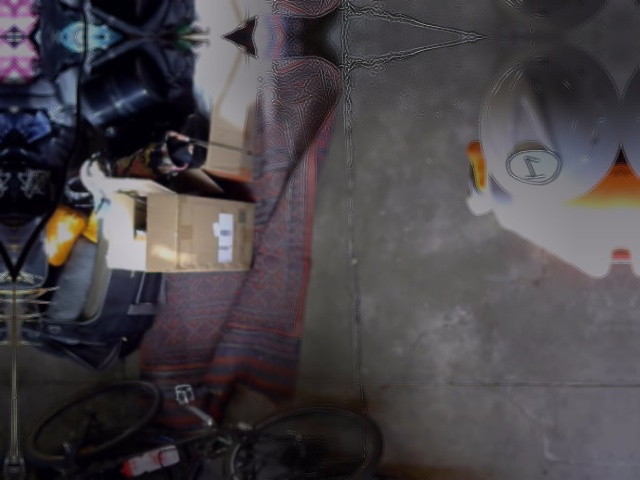one: (507, 149, 560, 183)
